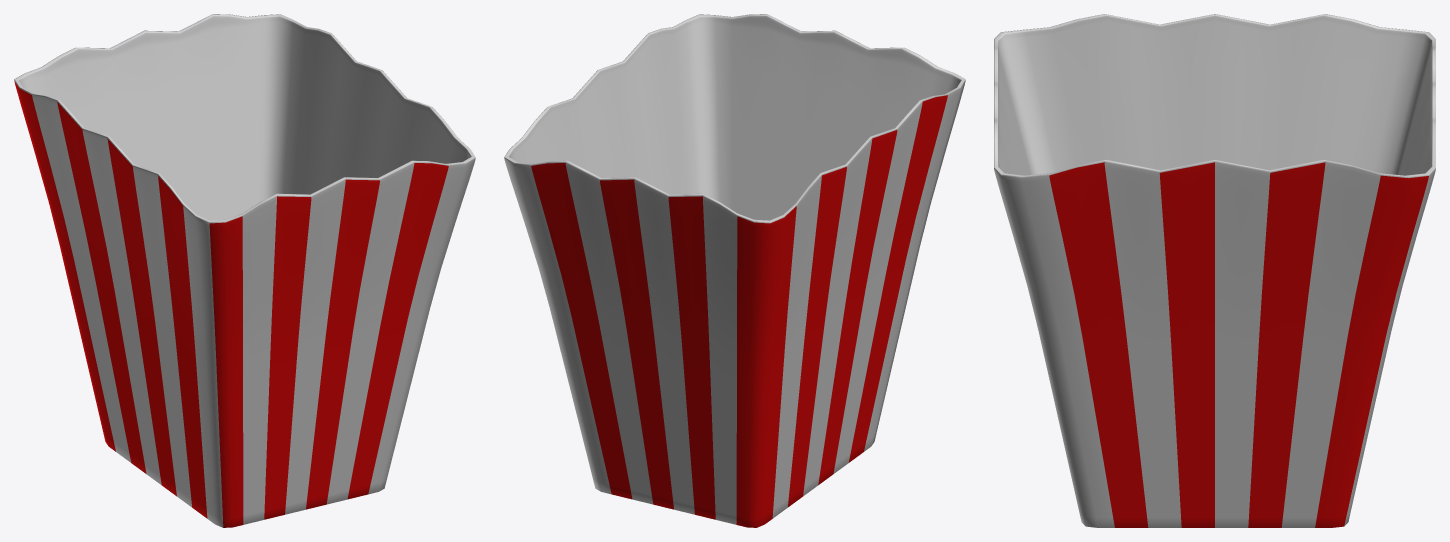
File: PopCorn_Continer_Med.fbx
The picture shows the model from 3 angles, left to right: view 1: azimuth 30°, elevation 25°; view 2: azimuth 150°, elevation 25°; view 3: azimuth 270°, elevation 25°; orthographic projection. The views are drawn at different scales.
Visible parts, largest first — view 1: Pop_Corn_Contanier_4; view 2: Pop_Corn_Contanier_4; view 3: Pop_Corn_Contanier_4.
Boxes of the visible parts, x1,y1,x2,y2 form: Pop_Corn_Contanier_4: (14,14,475,527); Pop_Corn_Contanier_4: (504,14,965,527); Pop_Corn_Contanier_4: (994,14,1435,527).
Size of the model in its own units: 20.06 by 25.32 by 25.51.
